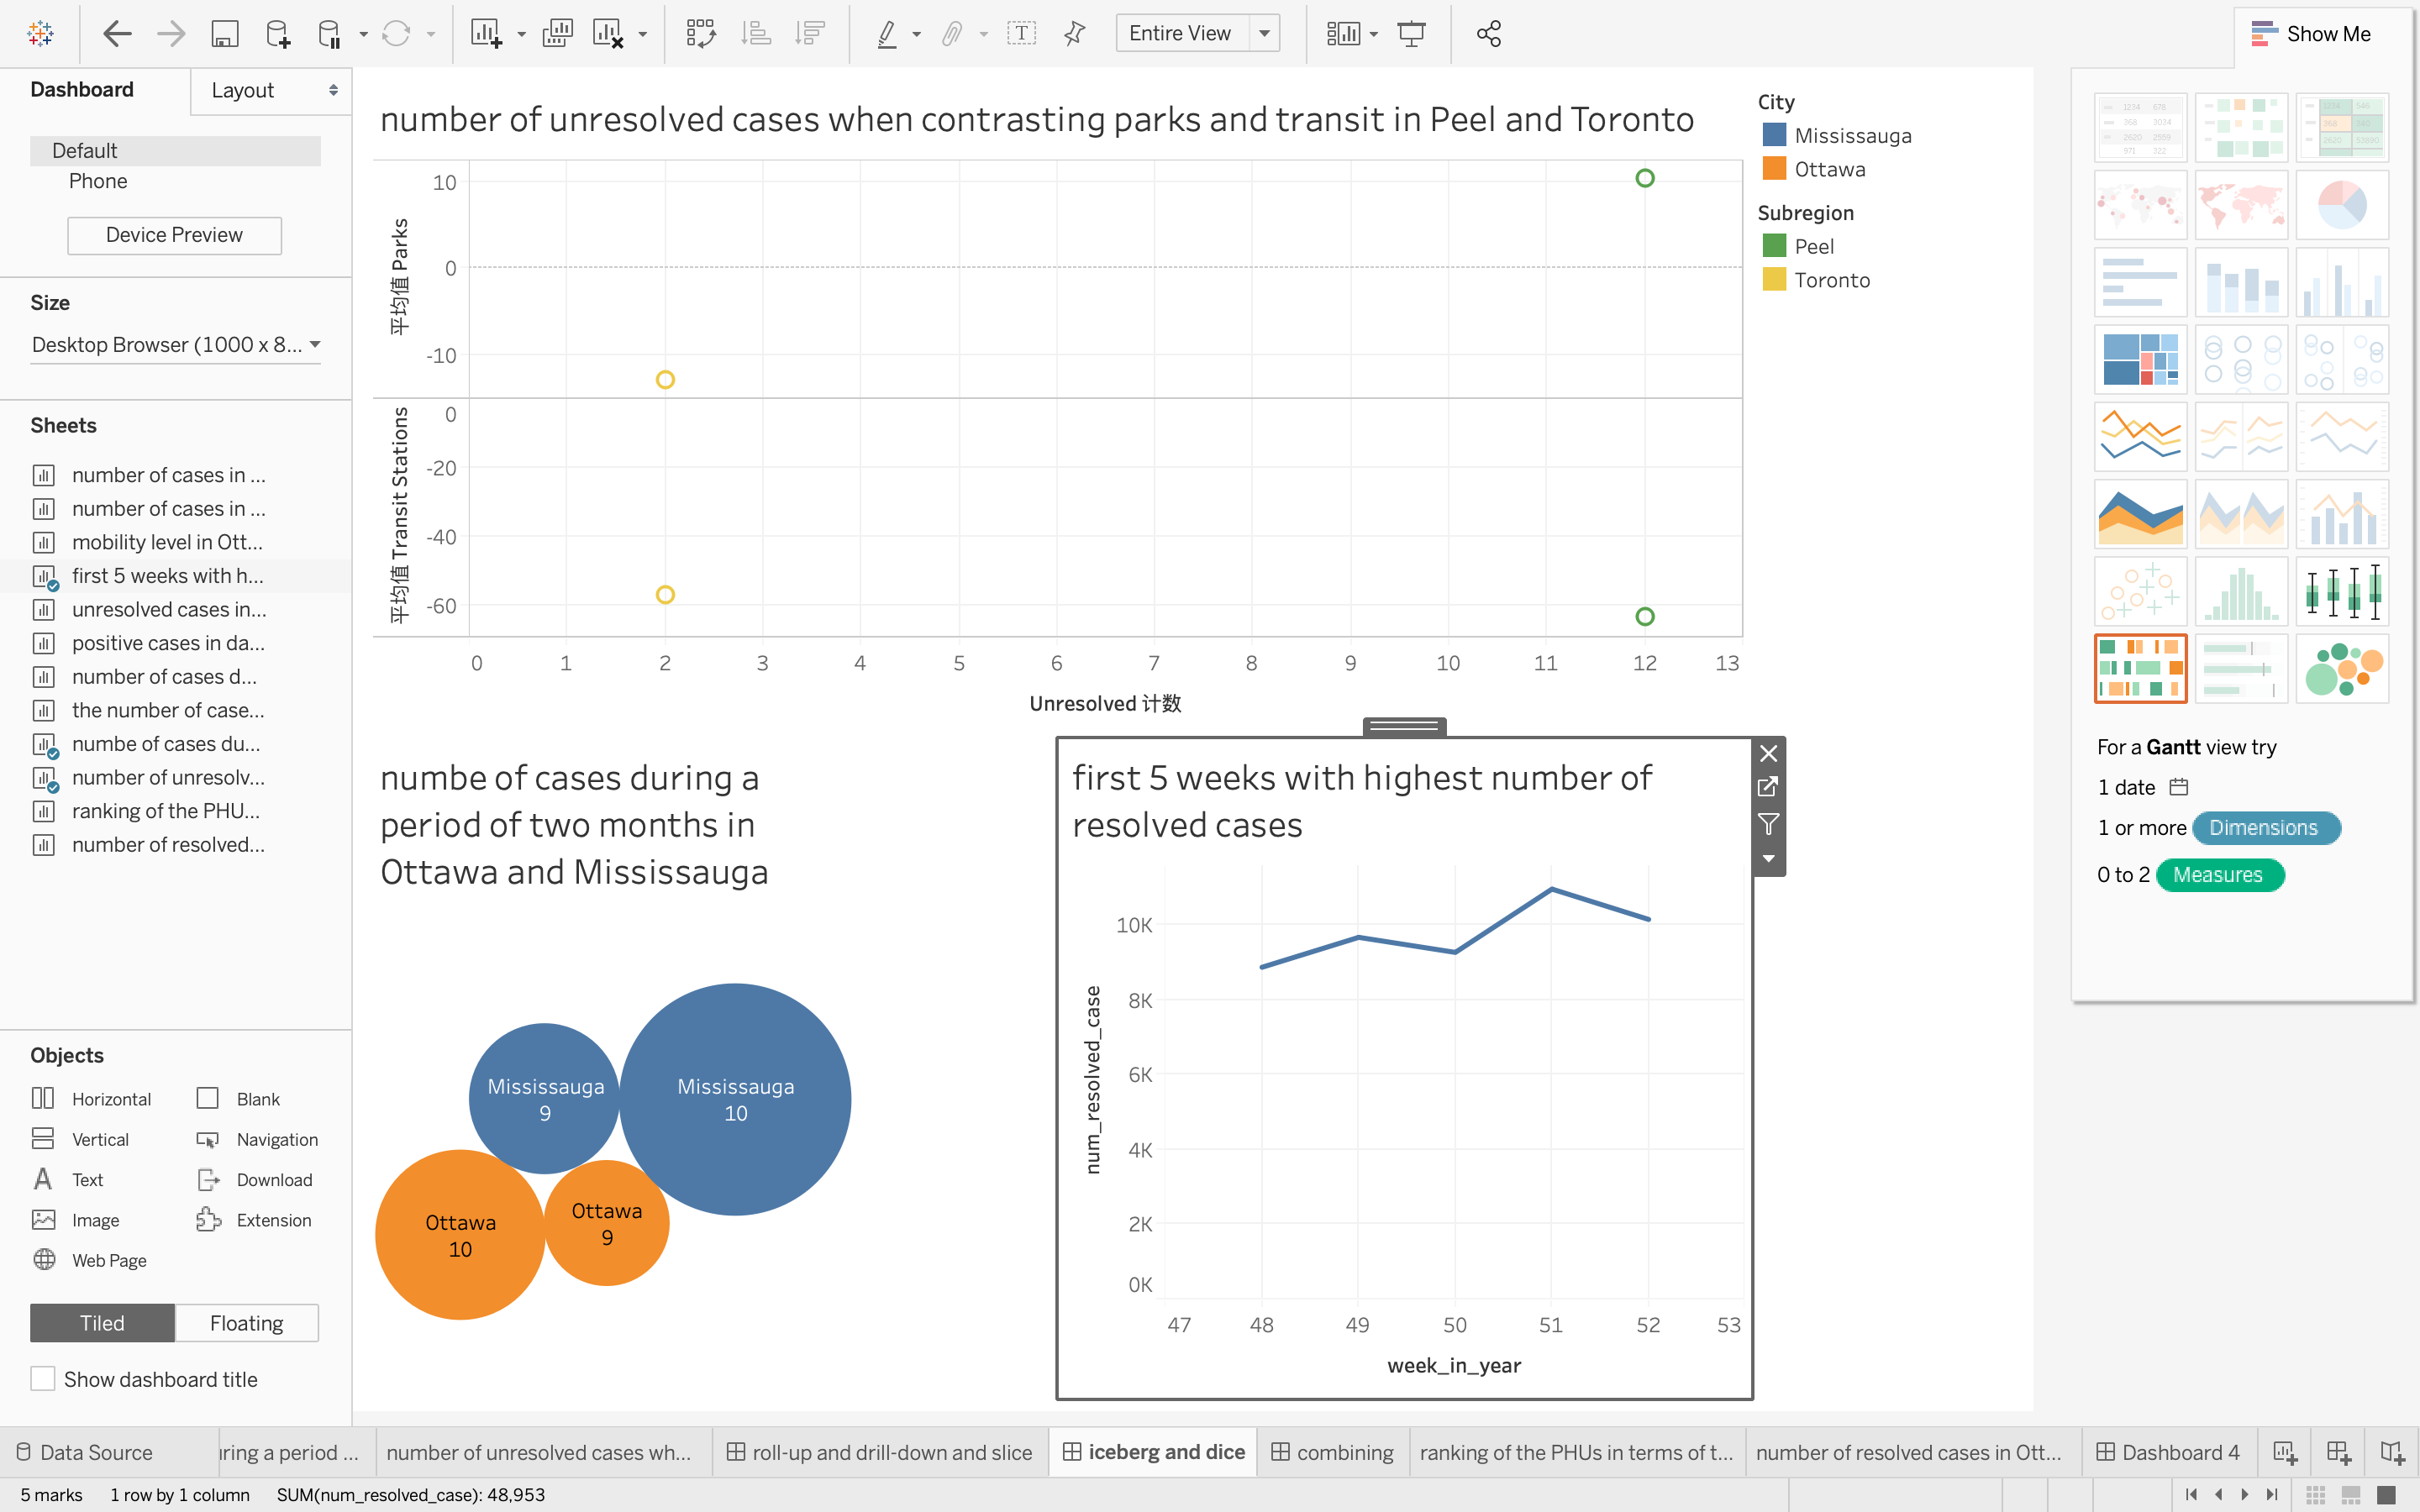

The page's visual inventory and layout, read from the dashboard file:
{"tool":"tableau","page":{"name":"iceberg and dice","canvas":[1000,800],"ordinal":2},"visuals":[{"type":"worksheet","box":[0,0,1000,800]},{"type":"worksheet","param":"horz","box":[8,8,984,784]},{"type":"worksheet","box":[8,8,824,784]},{"type":"worksheet","title":"number of unresolved cases when contrasting parks and transit in Peel and Toronto","mark":"Automatic","rows":["parks","transit_stations"],"cols":["unresolved"],"box":[8,8,824,392]},{"type":"worksheet","param":"vert","box":[832,8,160,784]},{"type":"worksheet","title":"numbe of cases during a period of two months in Ottawa and Mississauga","mark":"Circle","param":"[federated.00brt8x1lf8uqt18o7d6713epns0].[none:city:nk]","box":[832,8,160,66]},{"type":"worksheet","title":"number of unresolved cases when contrasting parks and transit in Peel and Toronto","mark":"Automatic","rows":["parks","transit_stations"],"cols":["unresolved"],"param":"[federated.00brt8x1lf8uqt18o7d6713epns0].[none:subregion:nk]","box":[832,74,160,66]},{"type":"worksheet","title":"numbe of cases during a period of two months in Ottawa and Mississauga","mark":"Circle","box":[8,400,412,392]},{"type":"worksheet","title":"first 5 weeks with highest number of resolved cases","mark":"Automatic","rows":["num_resolved_case"],"cols":["week_in_year (Custom SQL Query)"],"box":[420,400,412,392]}]}

Visuals, with their boxes on the page's 1000x800 design canvas (x1, y1, x2, y2). These are canvas units, not pixel positions in the 2420x1512 screenshot, which may show the page scaled, cropped or inside an application window:
worksheet: region(0, 0, 1000, 800)
worksheet: region(8, 8, 992, 792)
worksheet: region(8, 8, 832, 792)
"number of unresolved cases when contrasting parks and transit in Peel and Toronto" worksheet: region(8, 8, 832, 400)
worksheet: region(832, 8, 992, 792)
"numbe of cases during a period of two months in Ottawa and Mississauga" worksheet (Circle marks): region(832, 8, 992, 74)
"number of unresolved cases when contrasting parks and transit in Peel and Toronto" worksheet: region(832, 74, 992, 140)
"numbe of cases during a period of two months in Ottawa and Mississauga" worksheet (Circle marks): region(8, 400, 420, 792)
"first 5 weeks with highest number of resolved cases" worksheet: region(420, 400, 832, 792)
